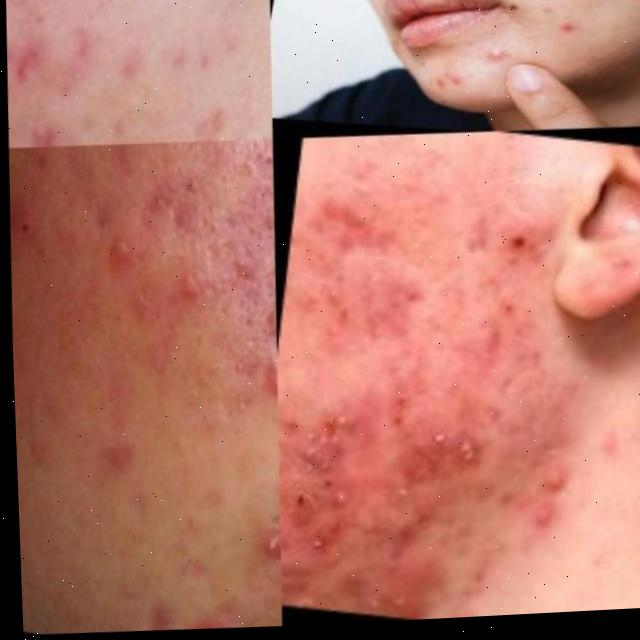Acne: (7, 183, 251, 630), (284, 214, 534, 572), (4, 0, 205, 138), (434, 0, 640, 117)
